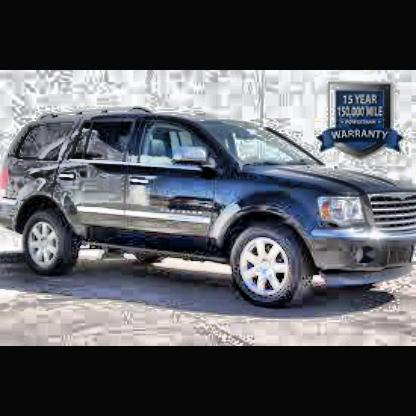Chrysler Aspen SUV 2009: (2, 107, 416, 311)
